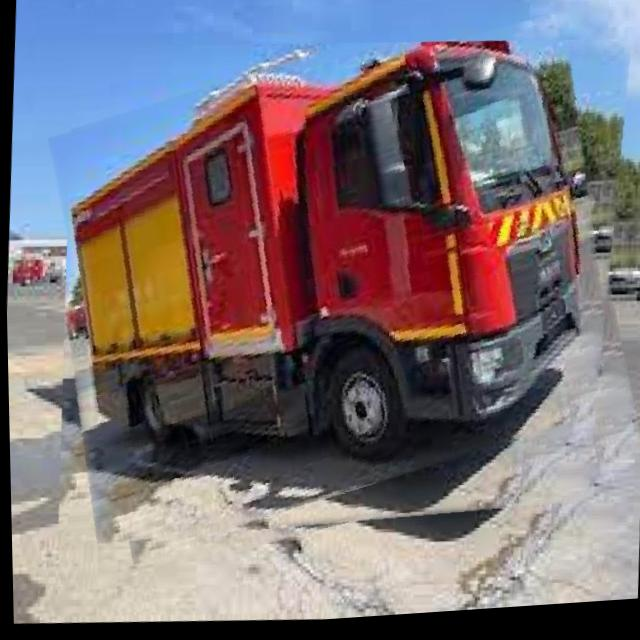Protection Civile: (46, 19, 640, 581)
